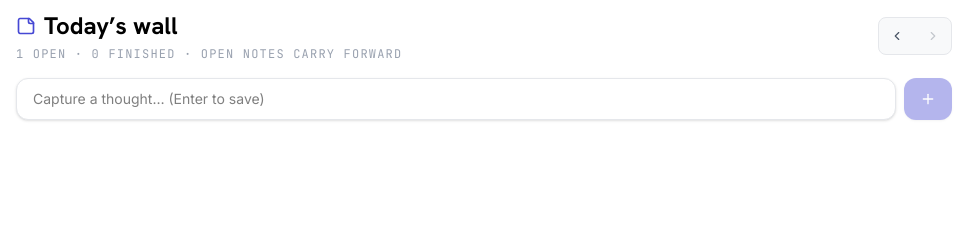
Test: carries unfinished notes across multiple days and excludes notes not created yet
The image size is (969, 228).
Click the button named "Previous capture day" at (897, 36), box [881,20,913,52]
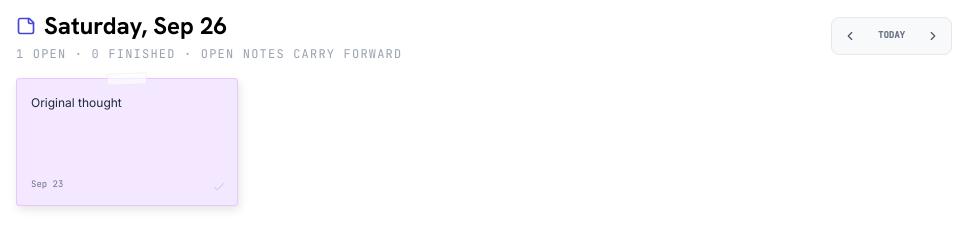
Result: the button with aria-label "Open note Original thought" is shown at [17,79,237,205]
